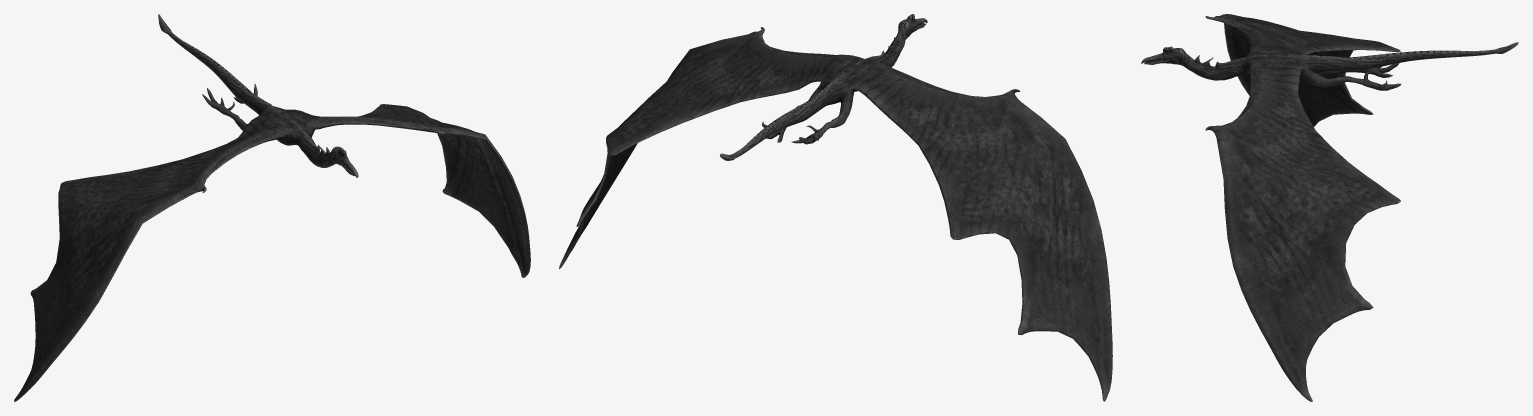
The model's file is Fellbeast_FlyAnim_35.obj.
The picture shows the model from 3 angles, left to right: view 1: azimuth 30°, elevation 25°; view 2: azimuth 150°, elevation 25°; view 3: azimuth 270°, elevation 25°; orthographic projection. The views are drawn at different scales.
Parts seen in each view (by area): view 1: Fellbeast; view 2: Fellbeast; view 3: Fellbeast.
Boxes of the visible parts, <box> form: Fellbeast: <box>14,14,530,401</box>; Fellbeast: <box>559,14,1112,401</box>; Fellbeast: <box>1141,14,1518,401</box>.
Bounding box in the file's own units: 6.59 × 3.06 × 4.38.
